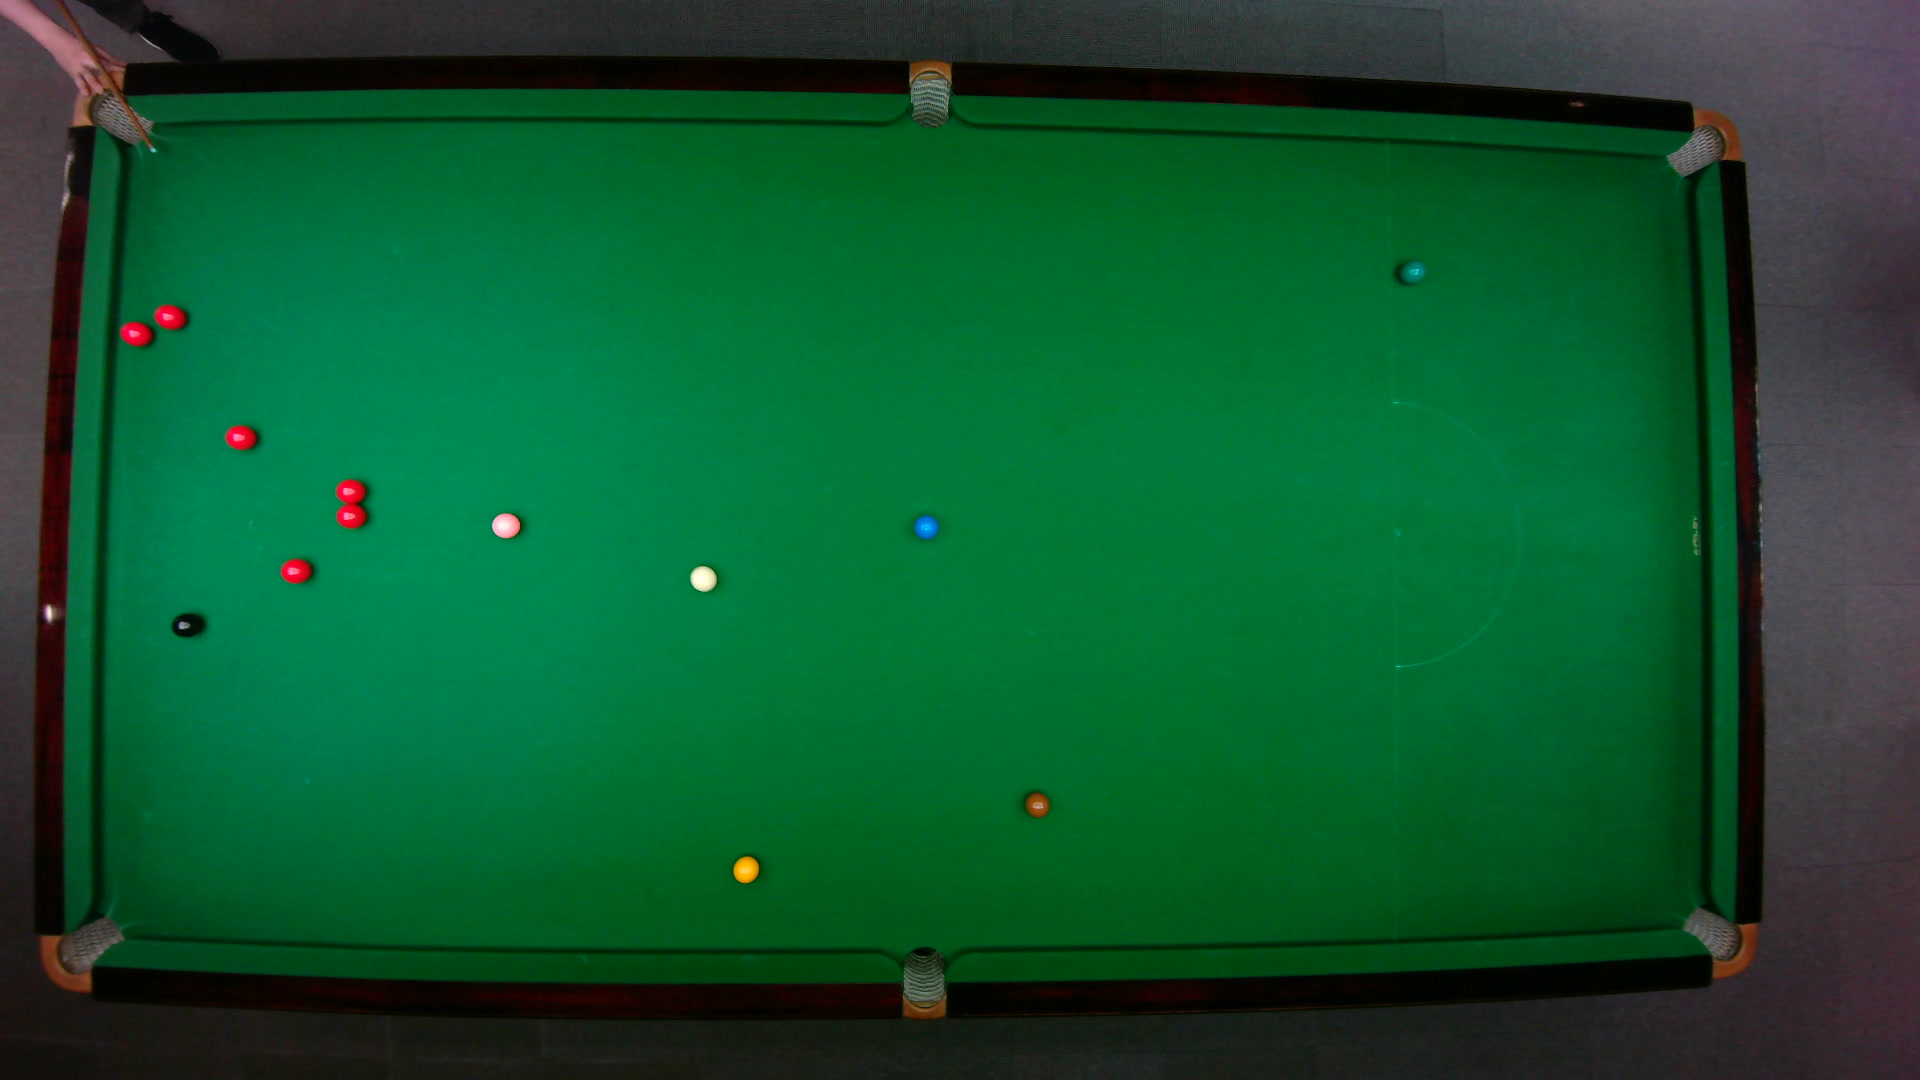bag: (38, 914, 127, 993), (70, 67, 156, 146), (1679, 905, 1759, 980), (1664, 108, 1745, 179), (902, 945, 945, 1021), (909, 59, 952, 131)
black: (170, 611, 203, 638)
blue: (913, 514, 940, 541)
brown: (1023, 791, 1051, 819)
cue: (54, 0, 160, 154)
green: (1396, 258, 1427, 285)
pink: (491, 512, 522, 541)
red: (117, 320, 156, 348), (278, 556, 314, 585), (152, 303, 189, 331), (334, 477, 368, 505), (223, 425, 258, 451), (334, 505, 368, 530)
white: (688, 564, 719, 593)
yellow: (731, 855, 761, 885)
zone: (1390, 401, 1520, 669)
